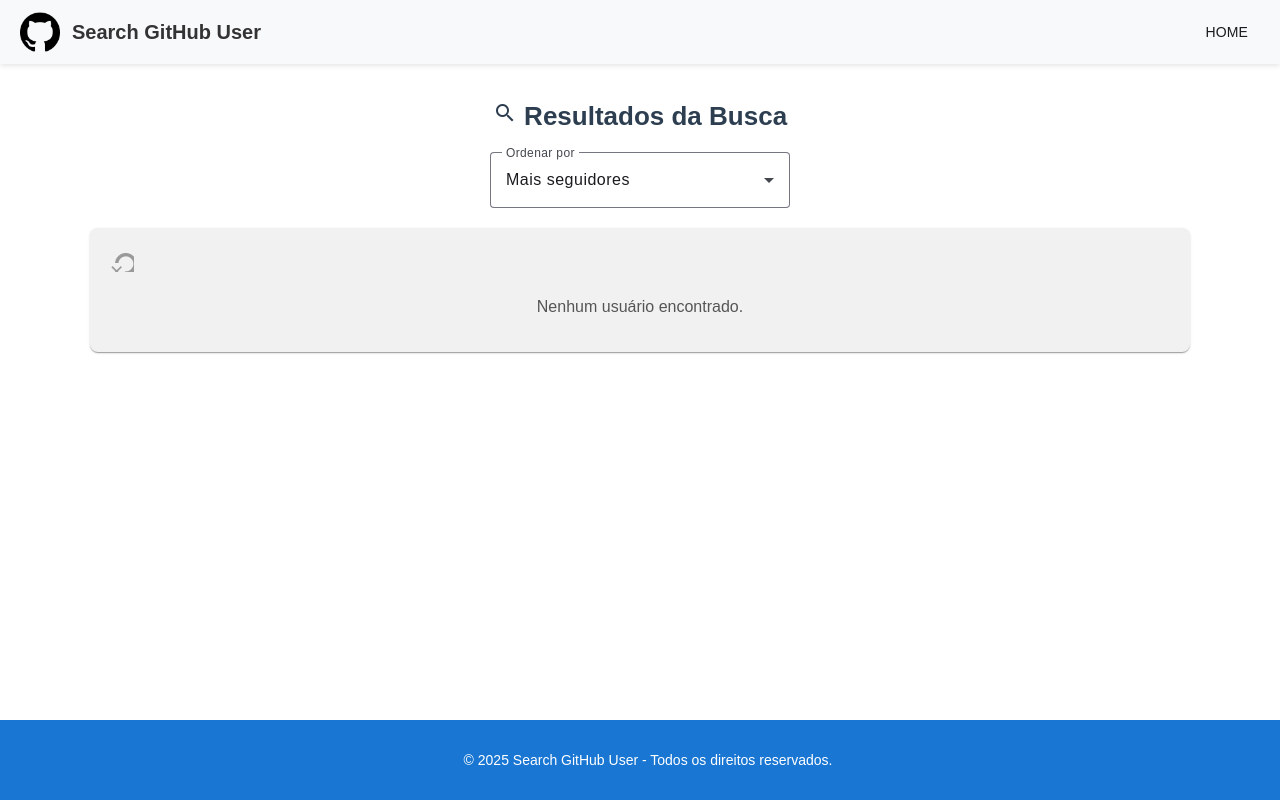
Test: Sort Selector Component › Deve permitir a seleção de uma opção de ordenação
Click the dropdown with test id "sort-select" at coordinates (568, 180), box [506,168,774,192]
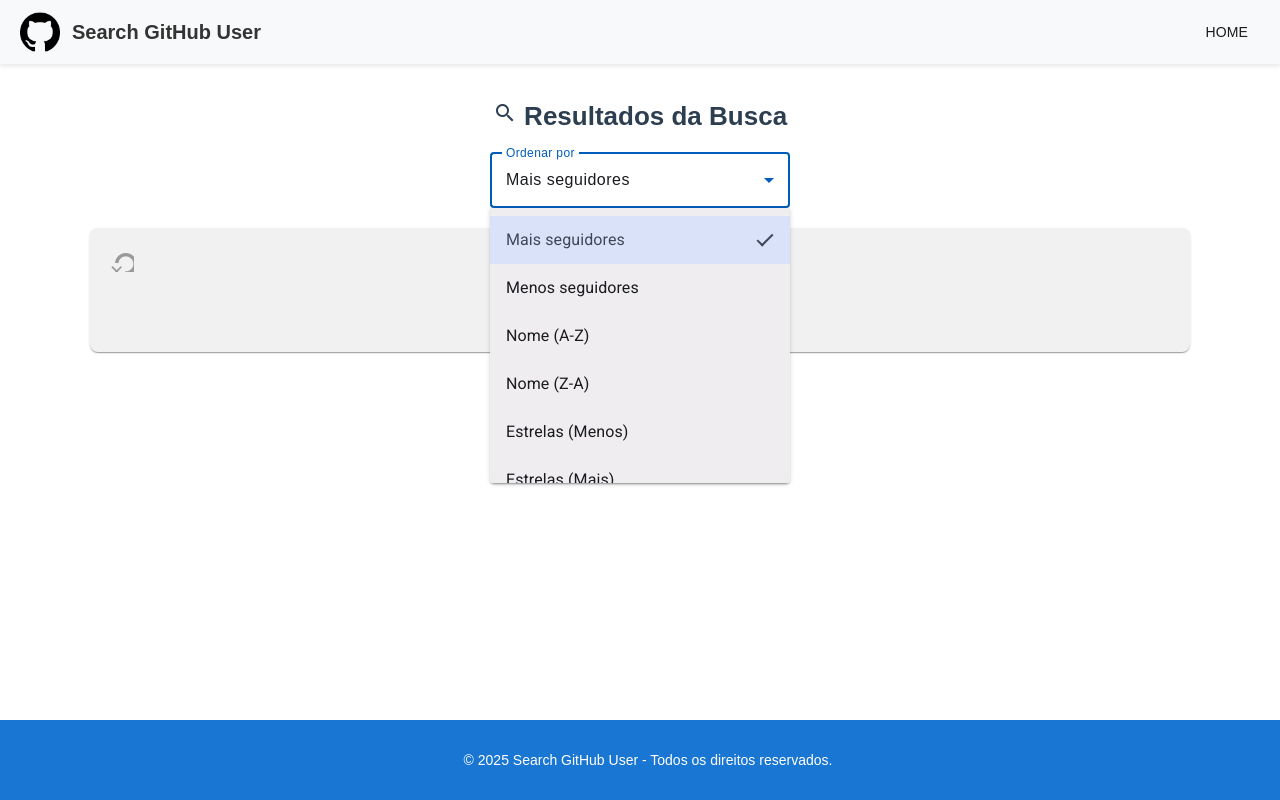
Click the option with test id "sort-name-asc" at coordinates (548, 336), box [506,326,590,345]
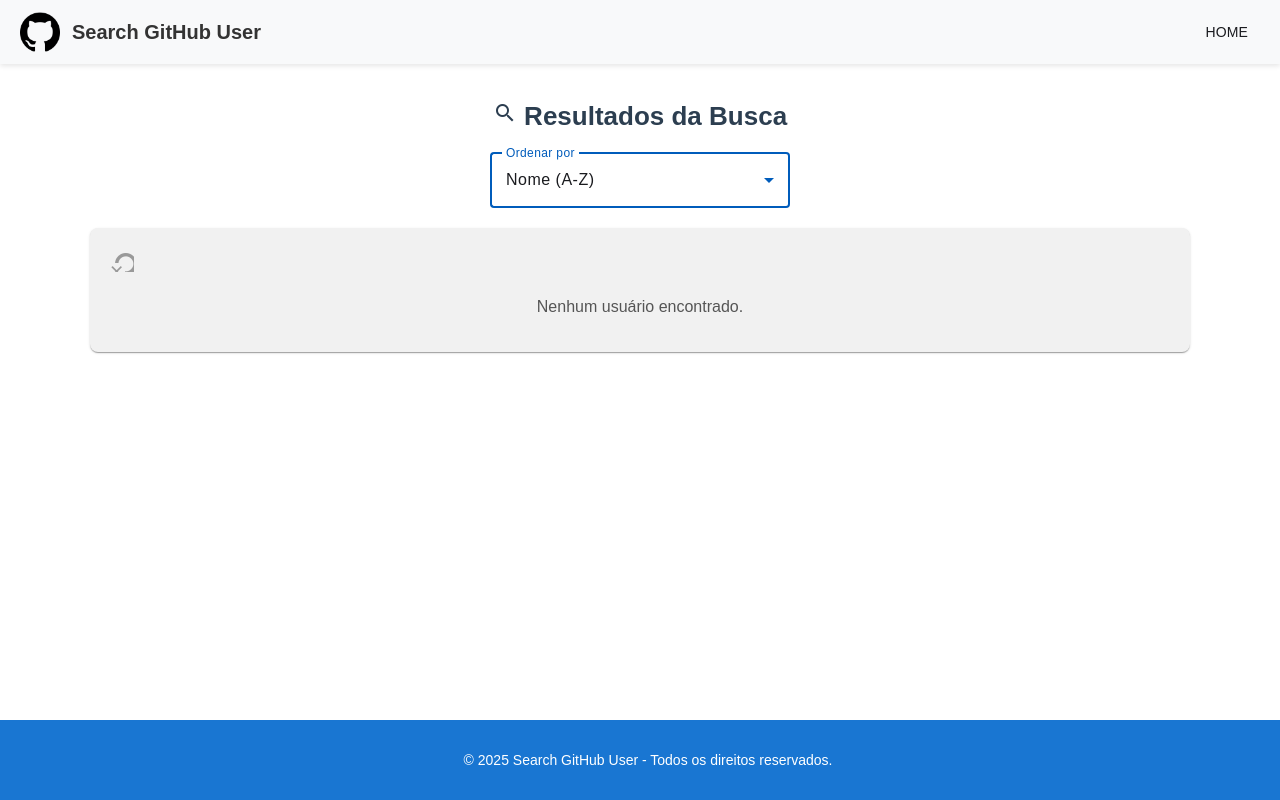
Result: the text with test id "sort-select" reads "Nome (A-Z)" at [506,171,595,188]
